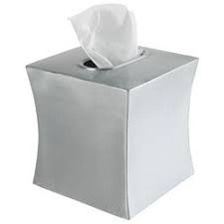plastic_box: (18, 36, 203, 223)
tissue: (60, 0, 144, 73)
